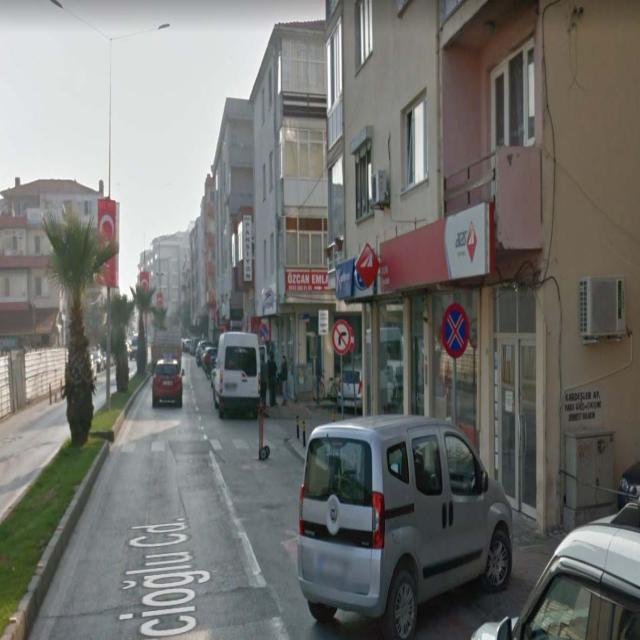parkyasak: (259, 324, 269, 341)
sagadonulmez: (332, 317, 353, 355)
